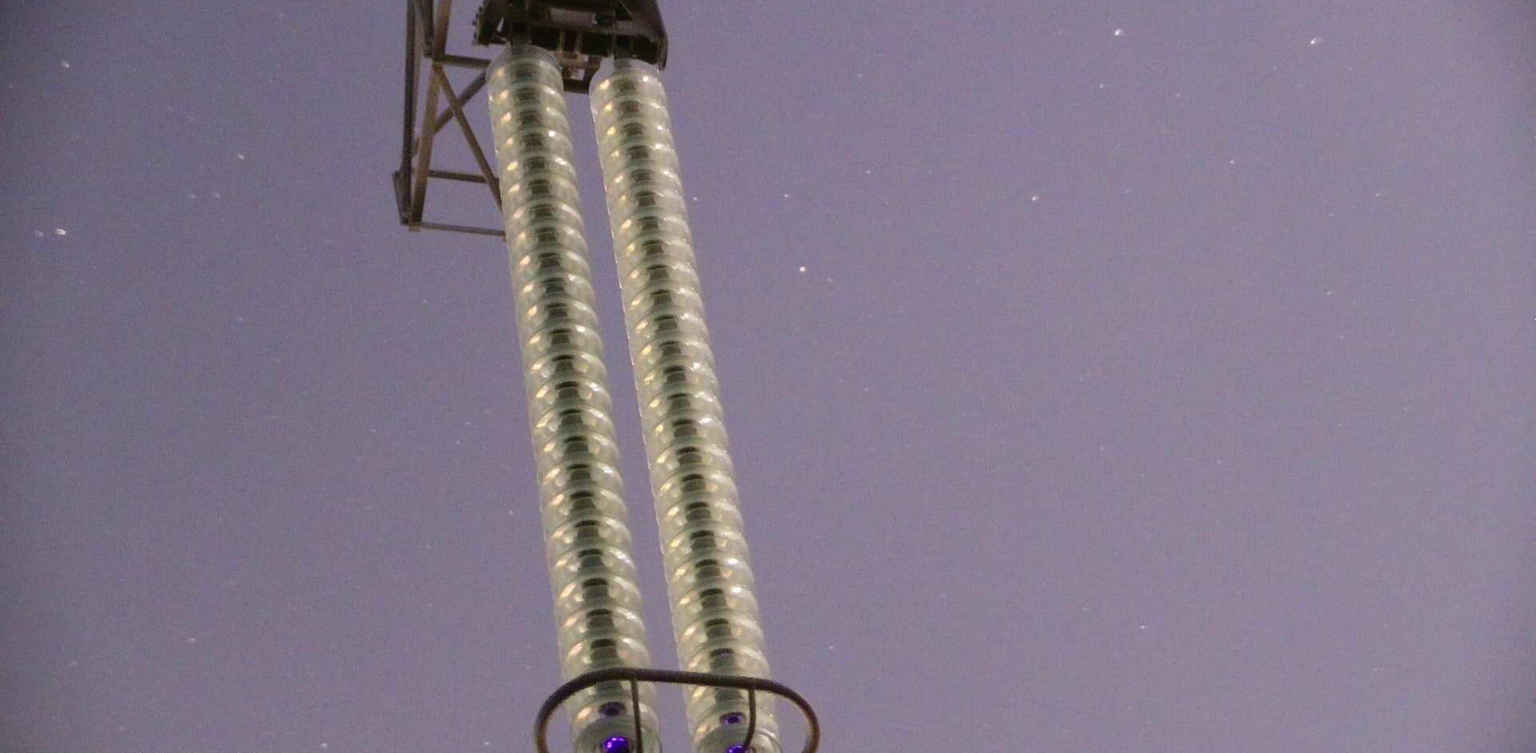绝缘子污闪: (601, 704, 621, 719), (605, 736, 627, 749), (727, 743, 750, 753), (724, 713, 742, 725), (721, 651, 730, 657)
